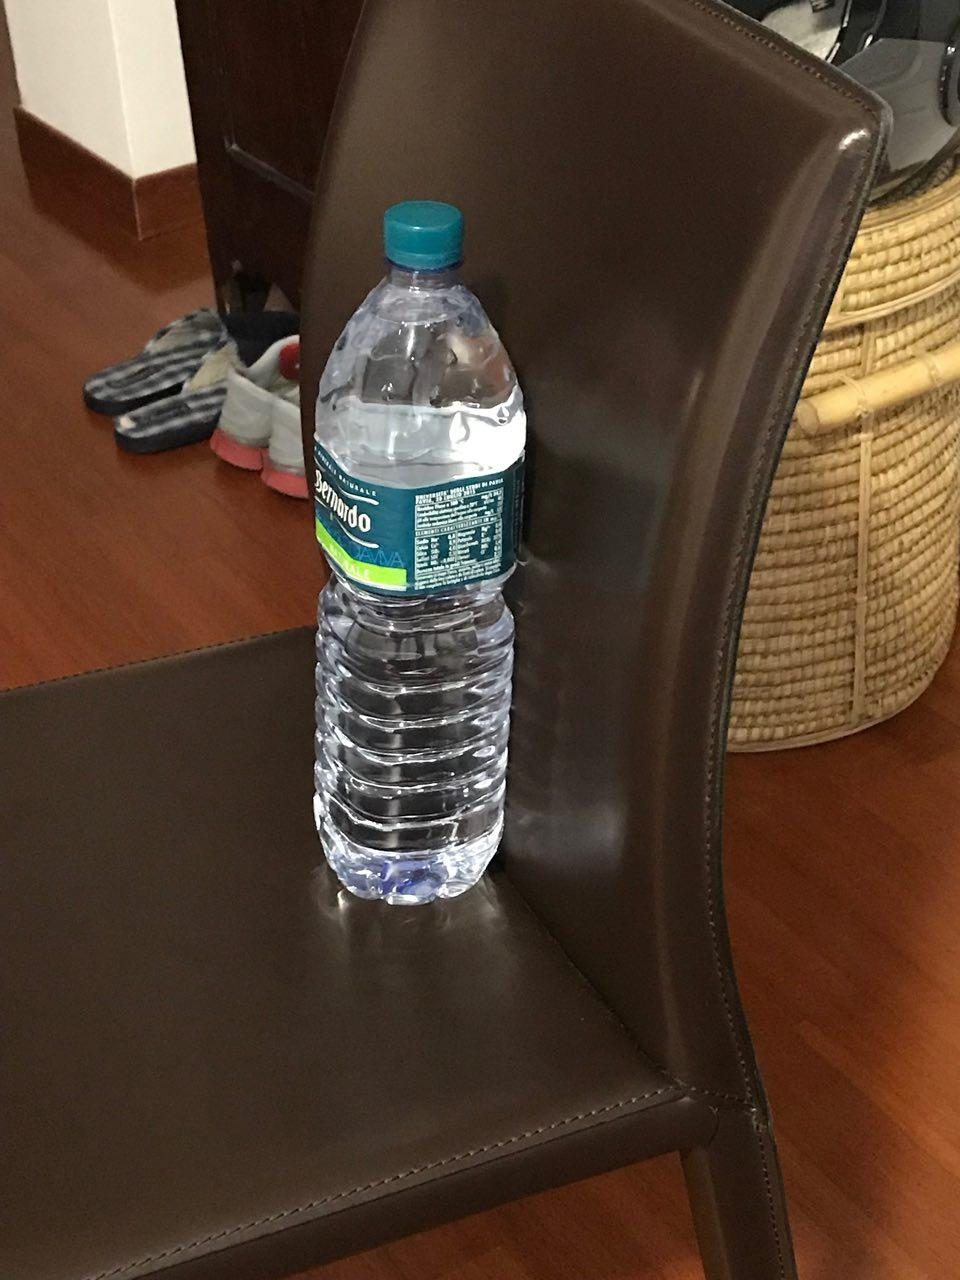san_bernardo: (310, 198, 528, 907)
